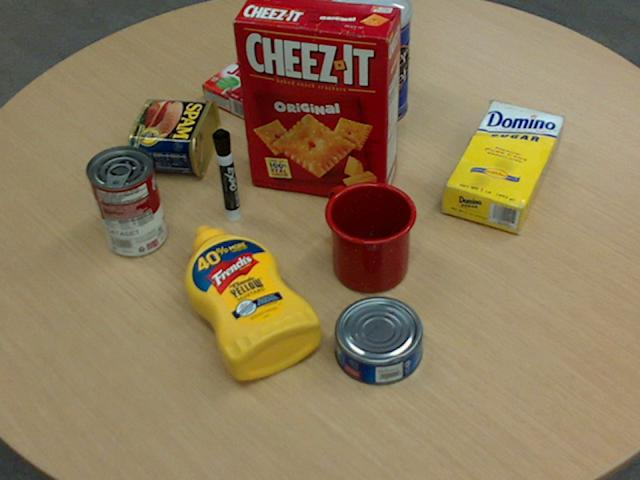cracker_box: (233, 0, 401, 201)
gelatin_box: (200, 57, 288, 122)
large_marker: (211, 128, 240, 223)
master_chef_can: (324, 0, 411, 129)
mug: (323, 180, 416, 292)
mustard_bottle: (183, 225, 321, 379)
potted_meat_can: (128, 98, 220, 176)
sugar_box: (442, 101, 563, 232)
tomato_soup_can: (85, 143, 165, 255)
tuna_fish_can: (335, 295, 423, 384)
